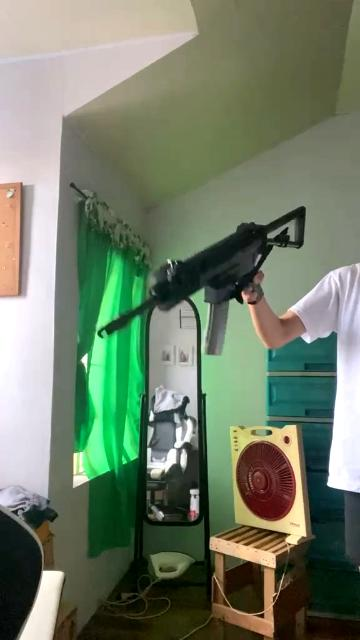rifle: (91, 197, 313, 347)
